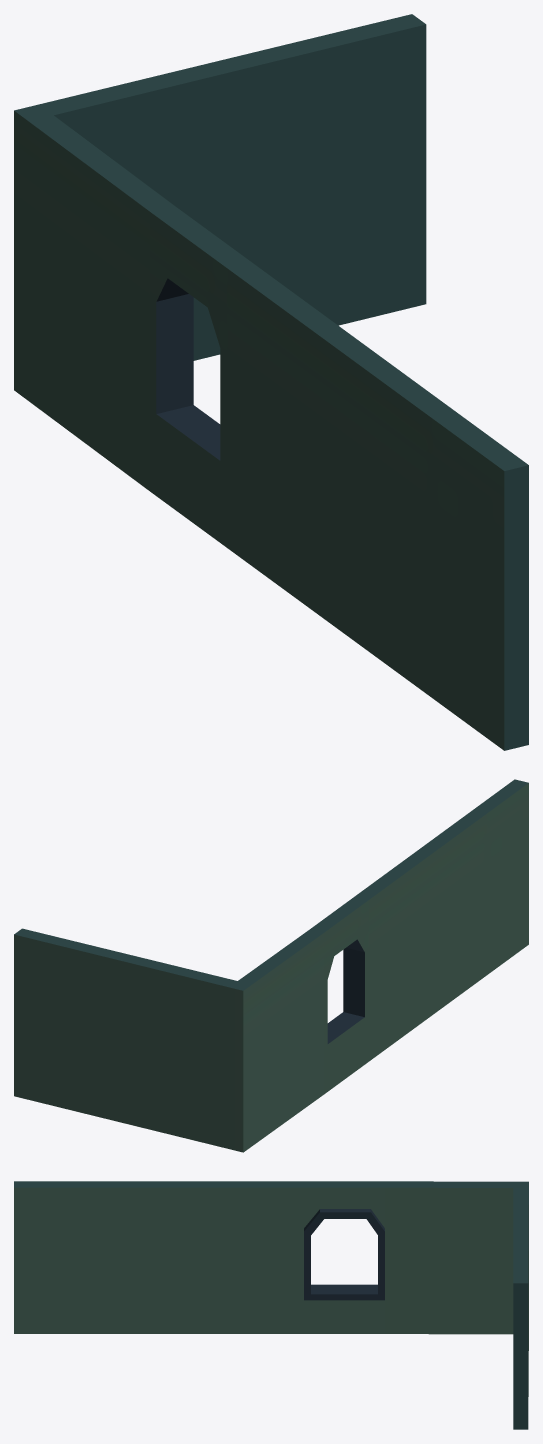
File: augur wall.fbx
The picture shows the model from 3 angles, top to bottom: view 1: azimuth 30°, elevation 25°; view 2: azimuth 150°, elevation 25°; view 3: azimuth 270°, elevation 25°; orthographic projection. The views are drawn at different scales.
Visible parts, largest first — view 1: augur wall; view 2: augur wall; view 3: augur wall.
Boxes of the visible parts, <box> form: augur wall: <box>14,14,528,750</box>; augur wall: <box>14,779,528,1152</box>; augur wall: <box>14,1181,528,1429</box>.
Size of the model in its own units: 406 by 272 by 867.
